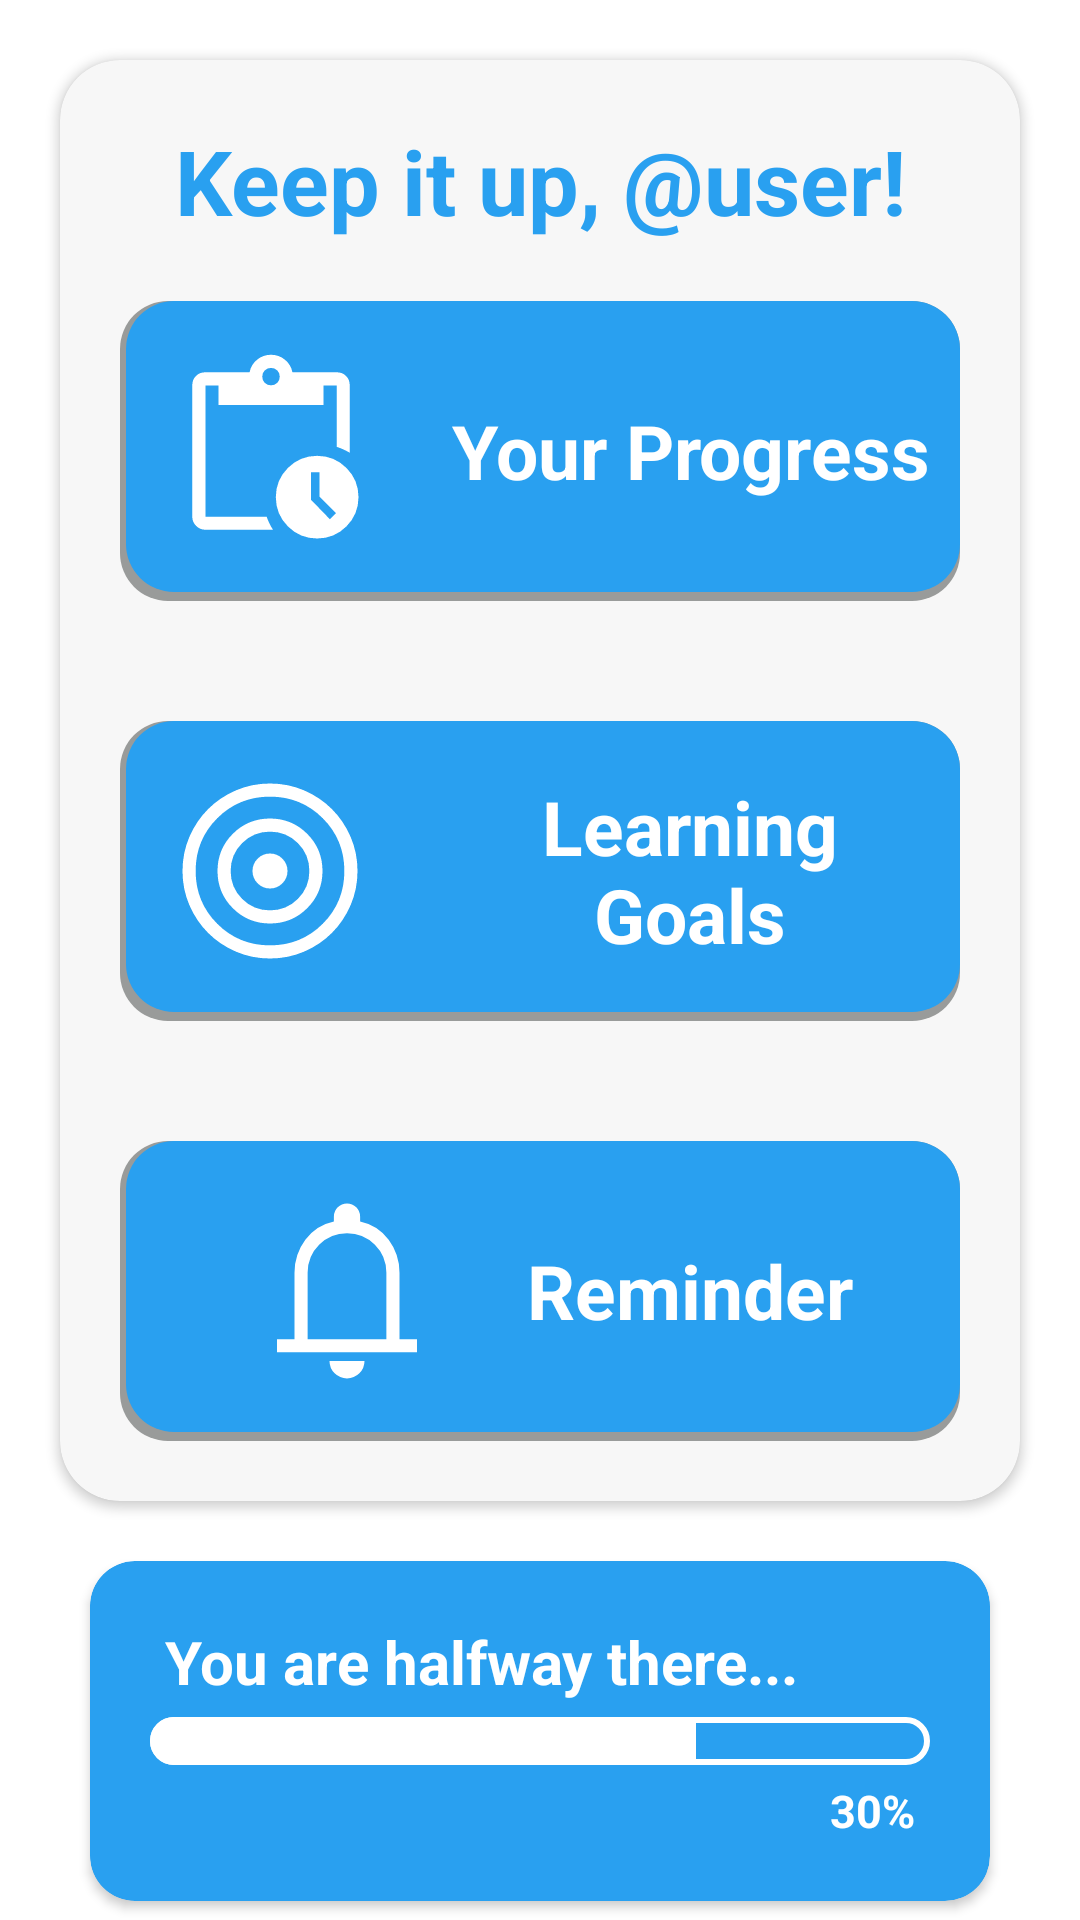

Named icons in this screenshot (1080px x 1920px) and their bounding boxes, (x1, y1, x2, y2):
target: (120, 721, 420, 1021)
